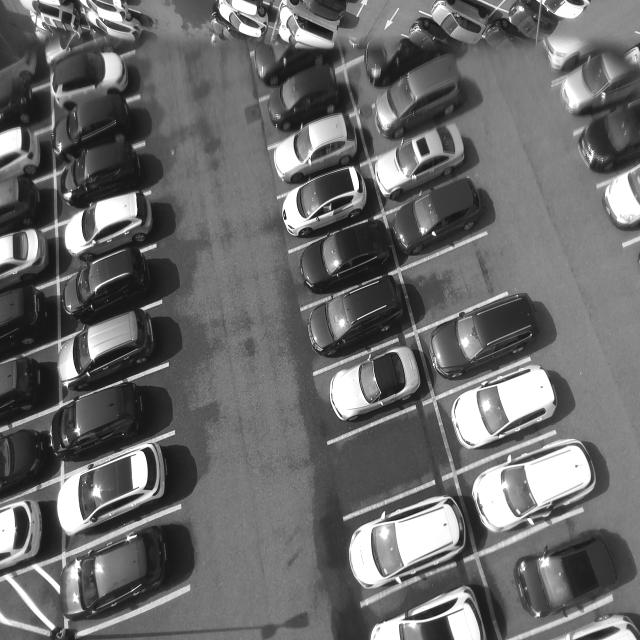car: (346, 493, 469, 592), (472, 440, 597, 536), (510, 528, 623, 628), (55, 441, 169, 539), (62, 525, 169, 626), (454, 366, 562, 457), (431, 293, 538, 383), (51, 378, 157, 465), (372, 52, 465, 144), (325, 343, 425, 428), (309, 273, 409, 357), (58, 309, 162, 389), (395, 170, 485, 258), (301, 222, 393, 303), (371, 125, 468, 201), (67, 187, 159, 267), (279, 163, 371, 242), (64, 247, 156, 320), (270, 116, 359, 183), (60, 145, 149, 210), (51, 98, 143, 160), (264, 64, 346, 130), (53, 48, 135, 112)
free_space: (325, 402, 458, 525), (400, 232, 510, 341)
